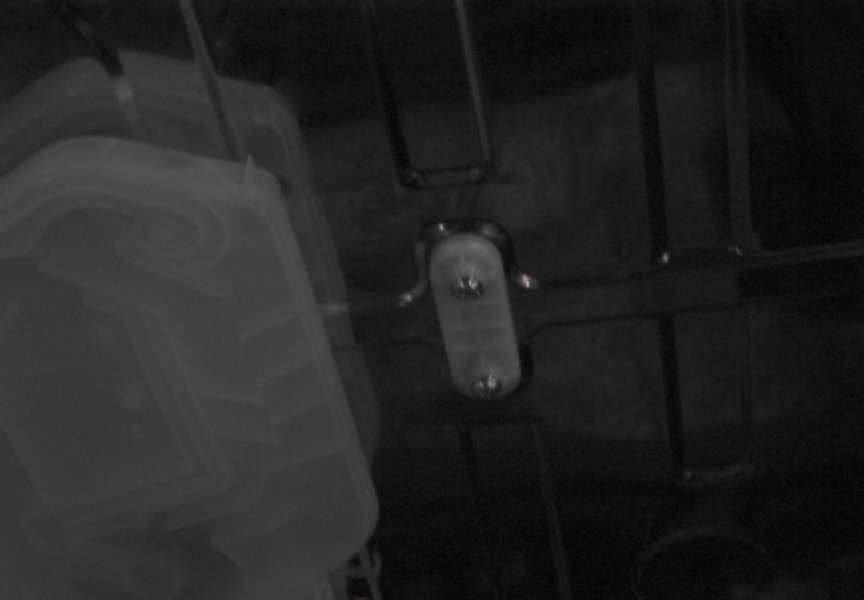screw: (451, 275, 484, 301), (472, 373, 502, 399)
